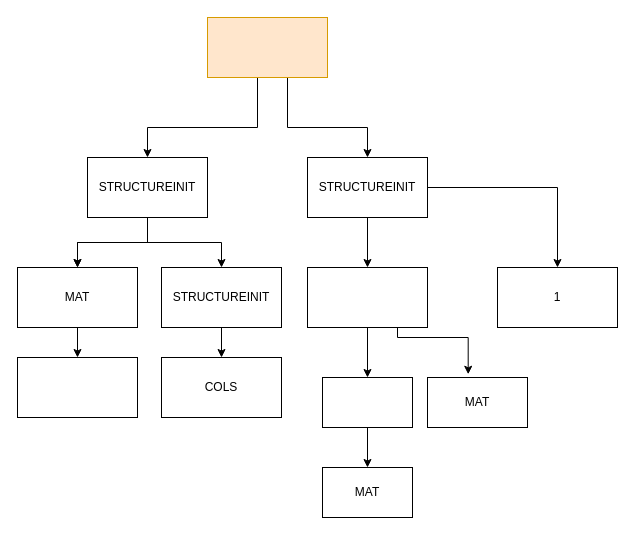
Some shapes in this 635 by 535 pixel diagram are drawn without their labels. The shapes that lost their labels are listed below. From the top down, each one's centre as x and y in pixels, then its label:
At [267,47]: "DOT PRODUCT".
At [367,297]: "MATRIX MULT".
At [77,387]: "ROWS".
At [367,402]: "TRANSPOSE".
